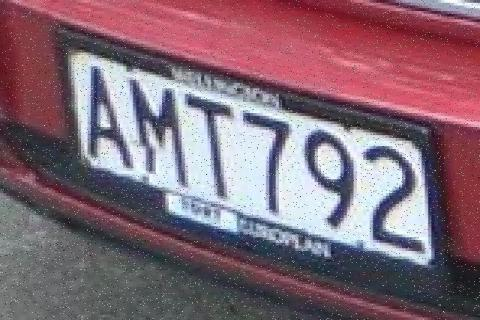LicensePlate: (53, 19, 461, 283)
